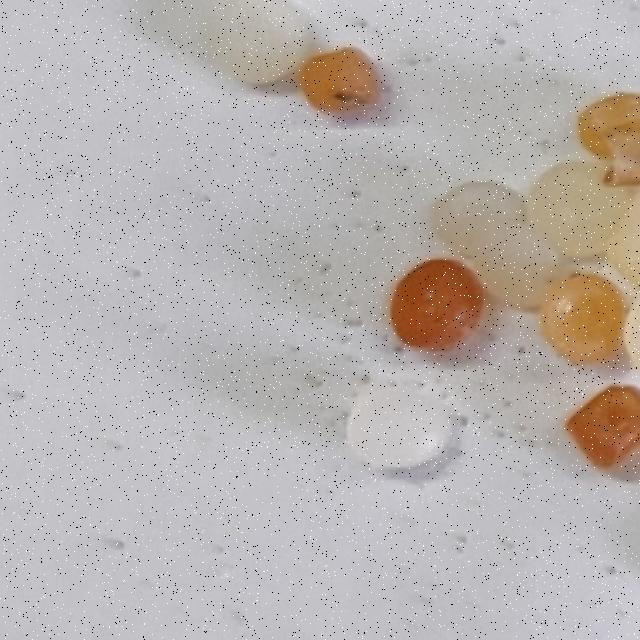beads: (386, 251, 492, 358), (207, 0, 312, 85), (348, 388, 454, 471), (295, 42, 382, 119), (1, 0, 1, 1)
fragments: (423, 161, 578, 332), (513, 139, 640, 272), (576, 91, 640, 189), (1, 1, 1, 1)
